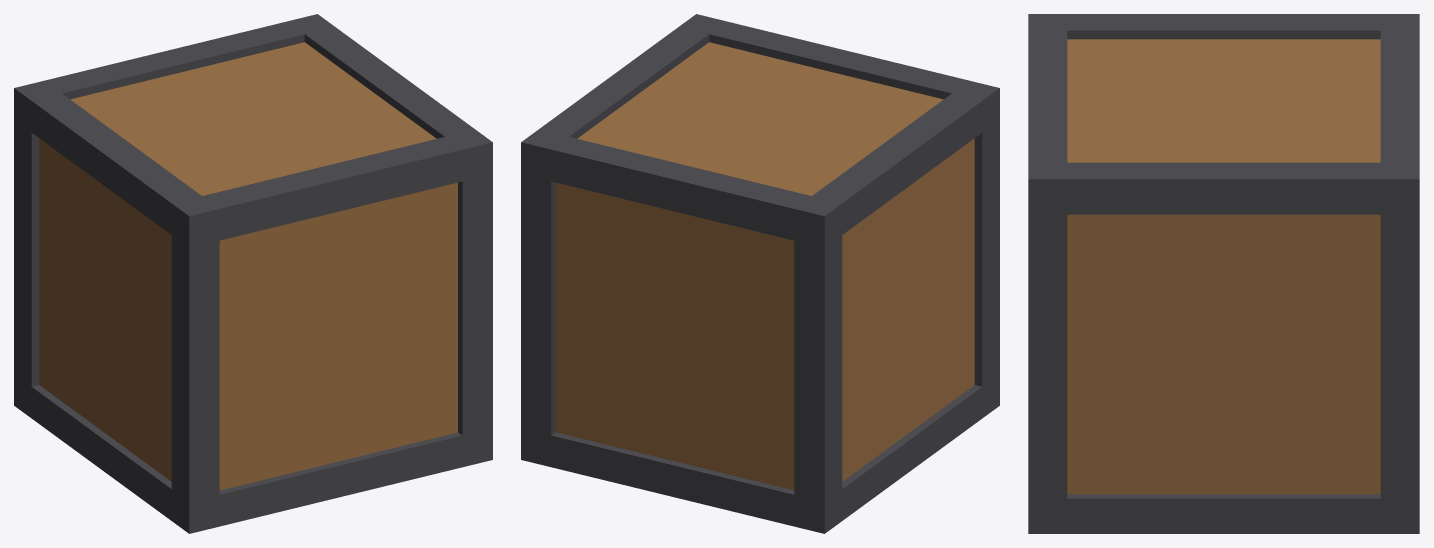
Rendered from crate_high.obj.
The picture shows the model from 3 angles, left to right: view 1: azimuth 30°, elevation 25°; view 2: azimuth 150°, elevation 25°; view 3: azimuth 270°, elevation 25°; orthographic projection. The views are drawn at different scales.
Visible parts, largest first — view 1: planks, frame; view 2: planks, frame; view 3: planks, frame.
Boxes of the visible parts, x1,y1,x2,y2 form: planks: [39, 42, 457, 490]; frame: [14, 14, 492, 533]; planks: [556, 42, 974, 490]; frame: [521, 14, 999, 533]; planks: [1067, 39, 1380, 494]; frame: [1028, 14, 1419, 533].
Size of the model in its own units: 0.6 by 0.6 by 0.6.
